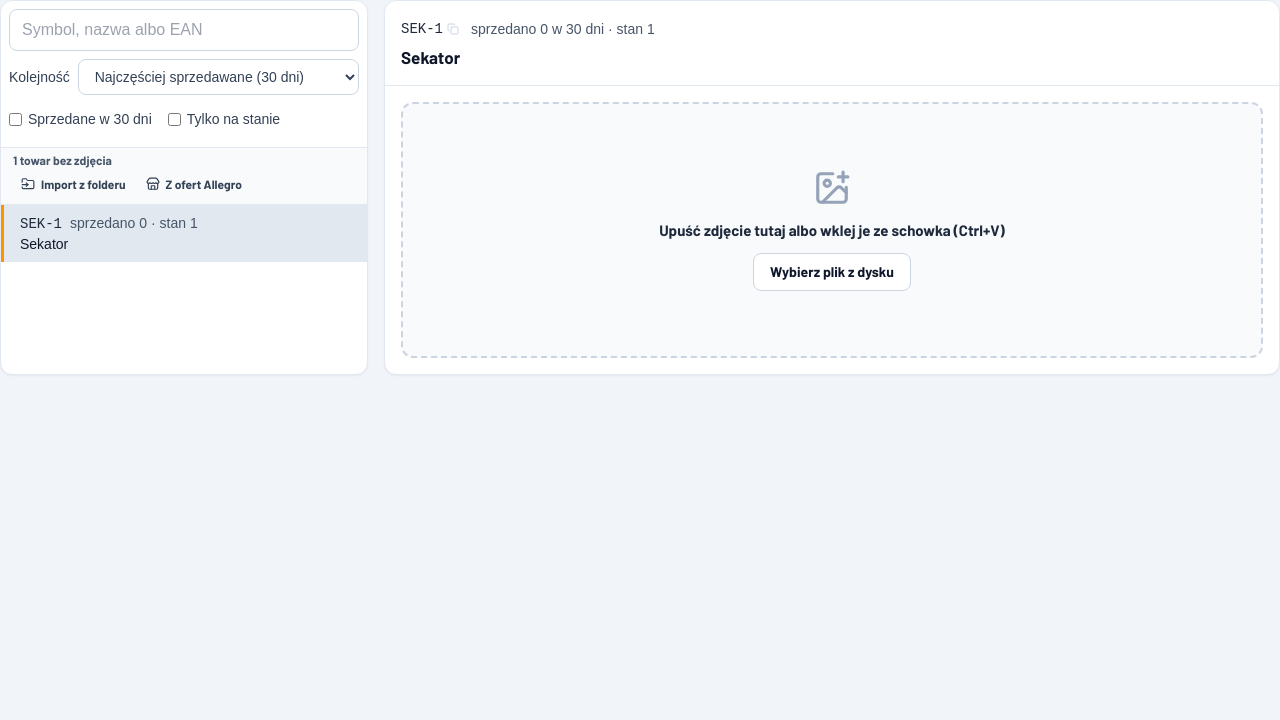
Import zdjęć z folderu › otwarcie ekranu i okna importu nie wysyła żadnego zapisu
The image size is (1280, 720).
Expected: the heading "Sekator" is shown, [401,47,460,67]
Click the button "Import z folderu": (73, 184) [13,168,134,200]
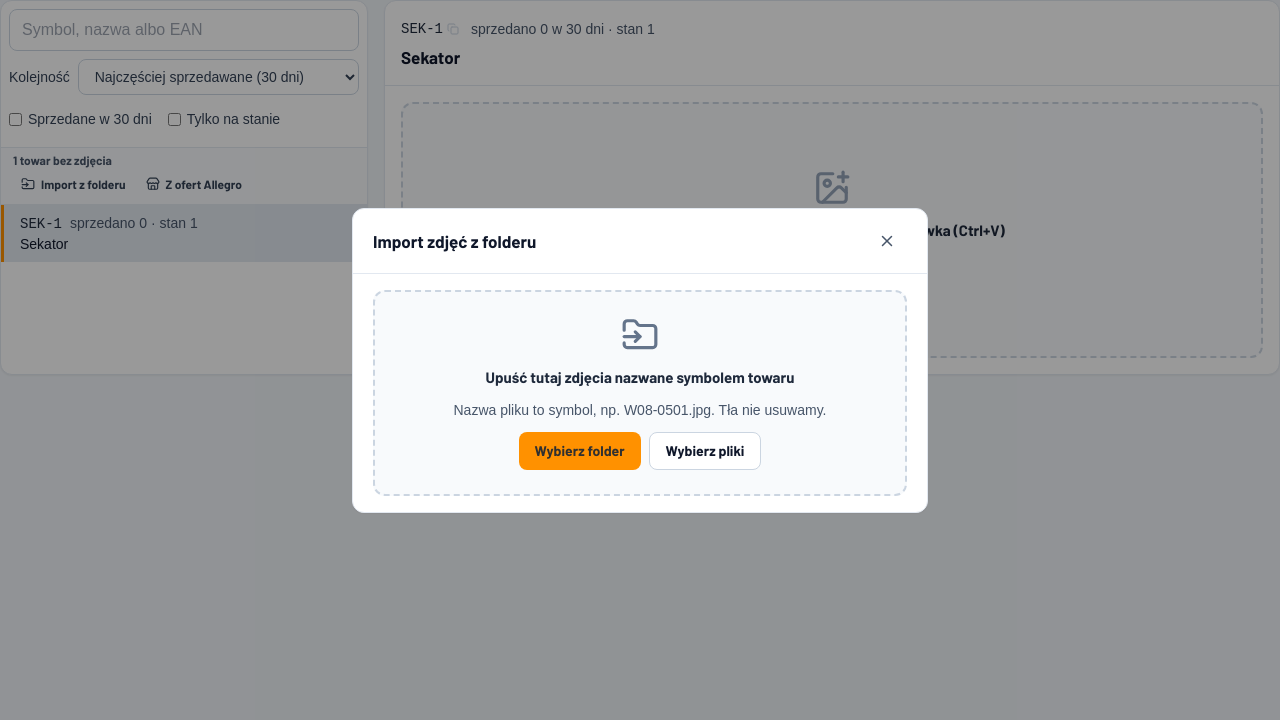
Expected: the file field labelled "Wybierz folder" is shown, [519,432,641,470]
Expected: the file field labelled "Wybierz pliki" is shown, [649,432,762,470]
